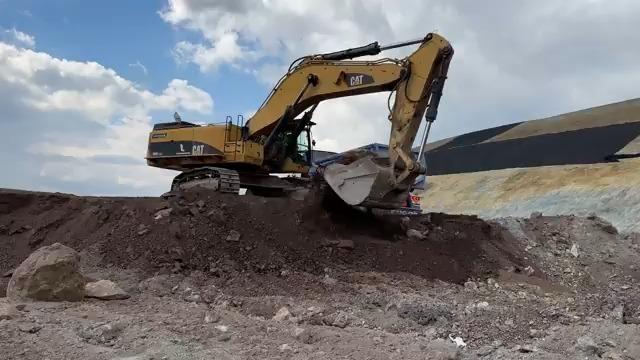excavator: (150, 32, 452, 191)
